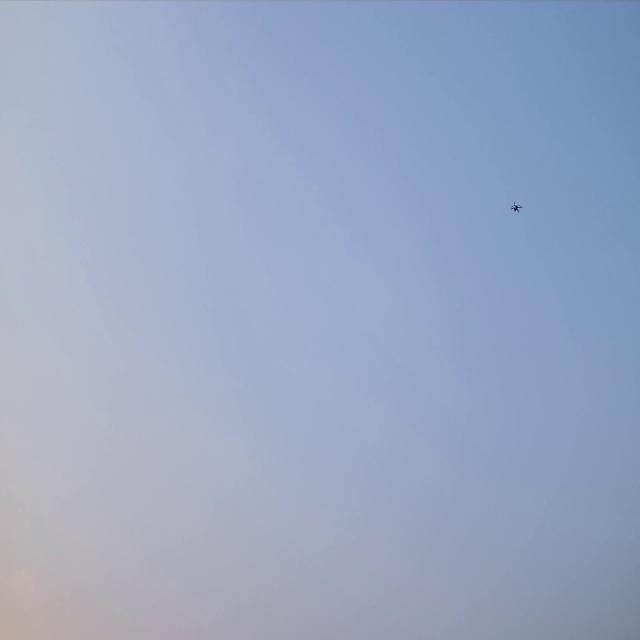UAV: (512, 204, 522, 211)
